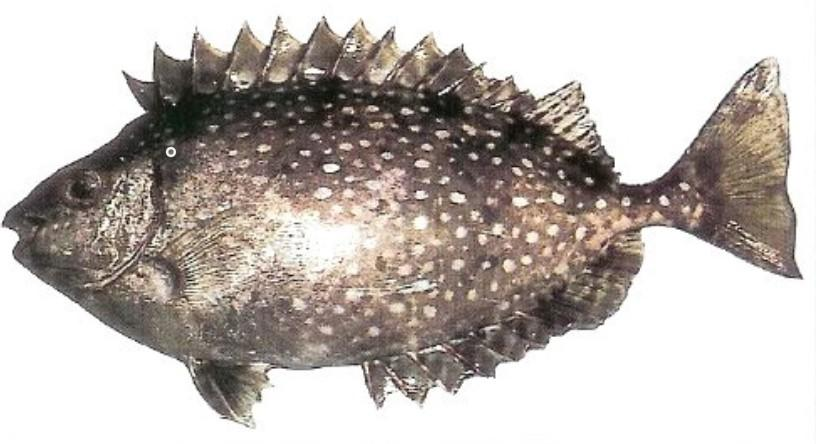fish: (5, 18, 798, 423)
